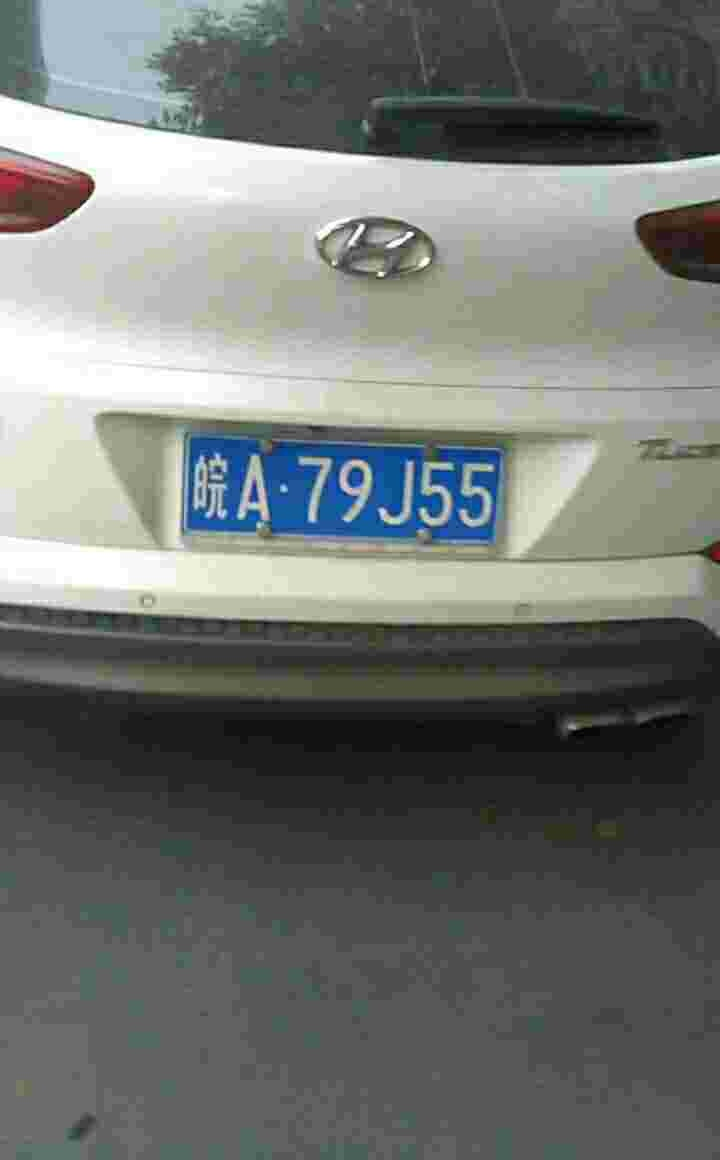car: (182, 426, 501, 550)
